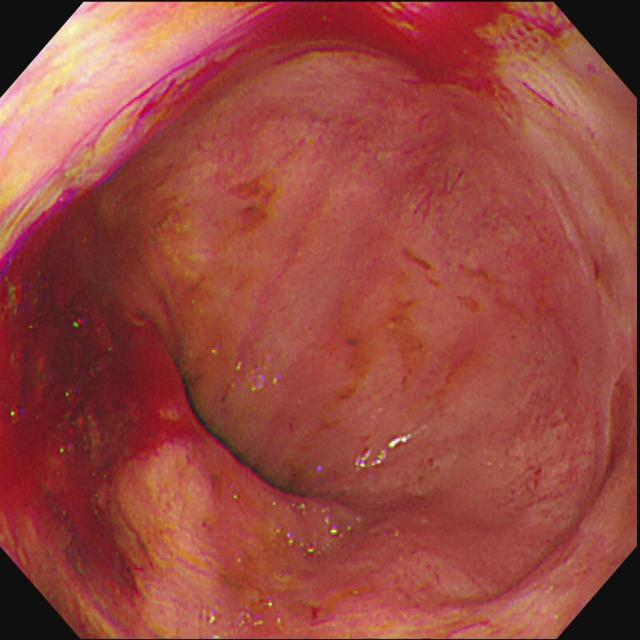A: (311, 508, 472, 635), (395, 121, 482, 216), (514, 410, 591, 514)
C: (2, 186, 187, 640), (127, 2, 584, 130), (225, 171, 272, 231), (335, 322, 368, 364)
U: (357, 428, 416, 471)
